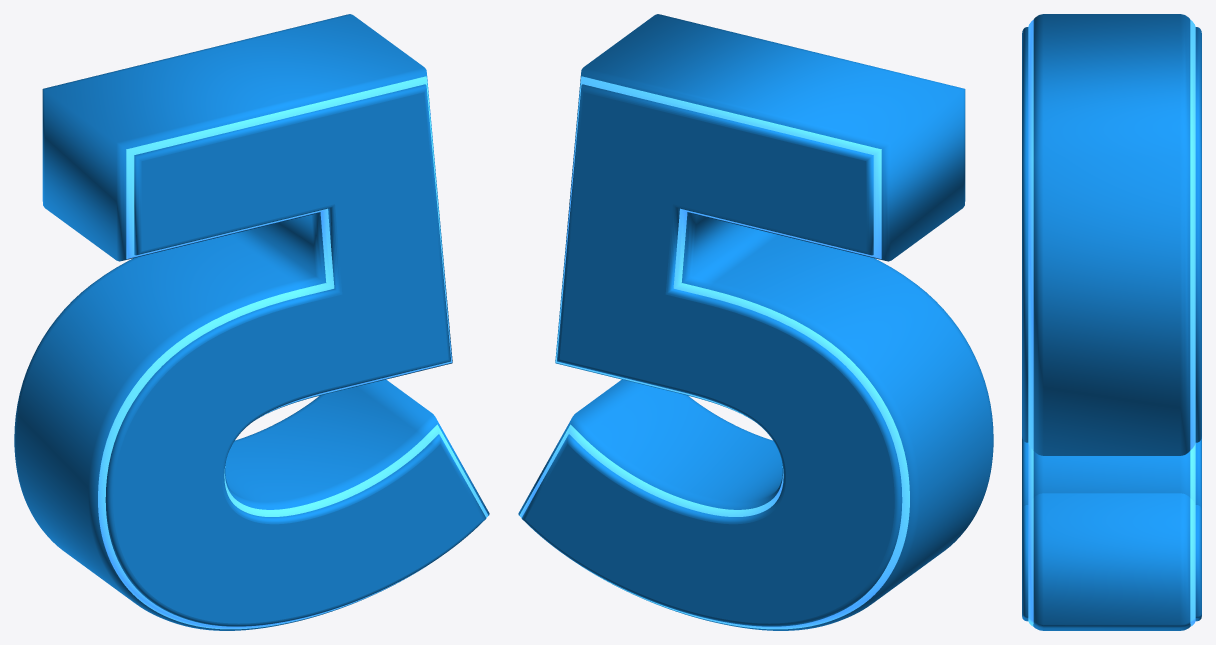
File: five.fbx
The picture shows the model from 3 angles, left to right: view 1: azimuth 30°, elevation 25°; view 2: azimuth 150°, elevation 25°; view 3: azimuth 270°, elevation 25°; orthographic projection. The views are drawn at different scales.
Parts seen in each view (by area): view 1: Object_6; view 2: Object_6; view 3: Object_6.
Boxes of the visible parts, x1,y1,x2,y2 form: Object_6: [14, 14, 489, 630]; Object_6: [518, 14, 993, 630]; Object_6: [1022, 14, 1201, 630].
Bounding box in the file's own units: 2826 × 3519 × 1155.
